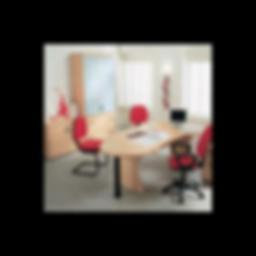Armario: (82, 56, 115, 136)
